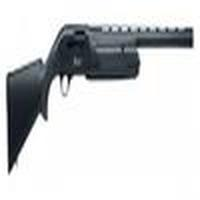gun: (7, 17, 197, 176)
